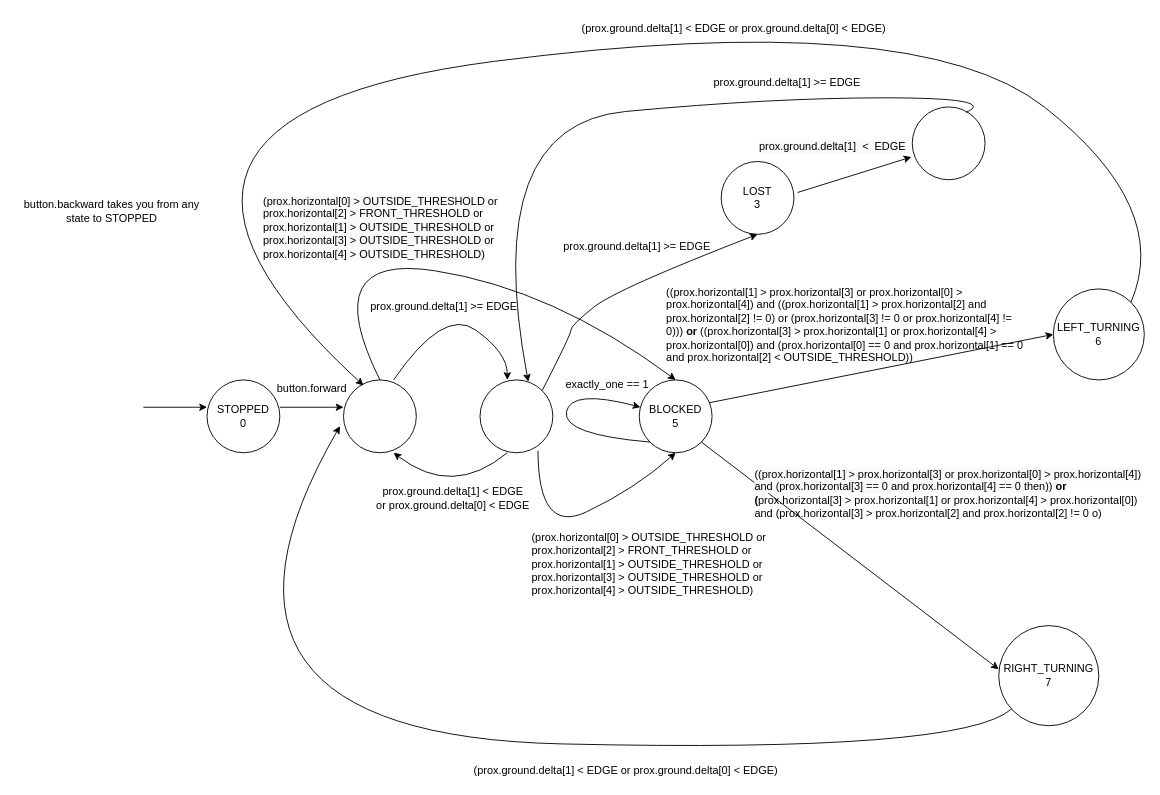
The diagram is 1160 pixels wide and 795 high, and some of its shapes have lost their labels. Here are the shapes that lost their labels. From the top down, the centre of each, then its label:
At (948,143): "RETRIEVER 4".
At (379,416): "RIGHT 2".
At (516,416): "LEFT 1".
